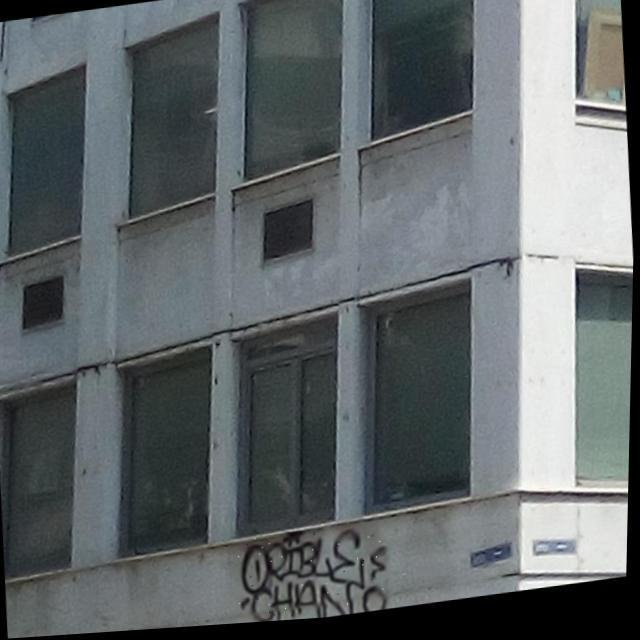-: (232, 524, 396, 627)
